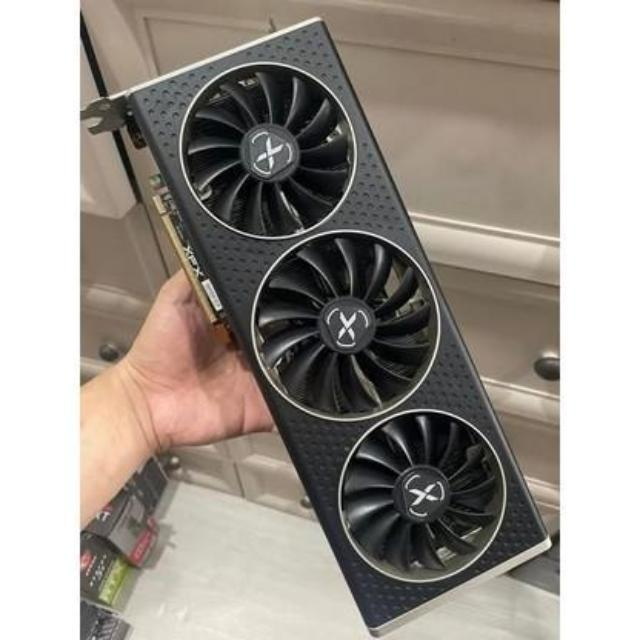GPU: (96, 0, 552, 629)
